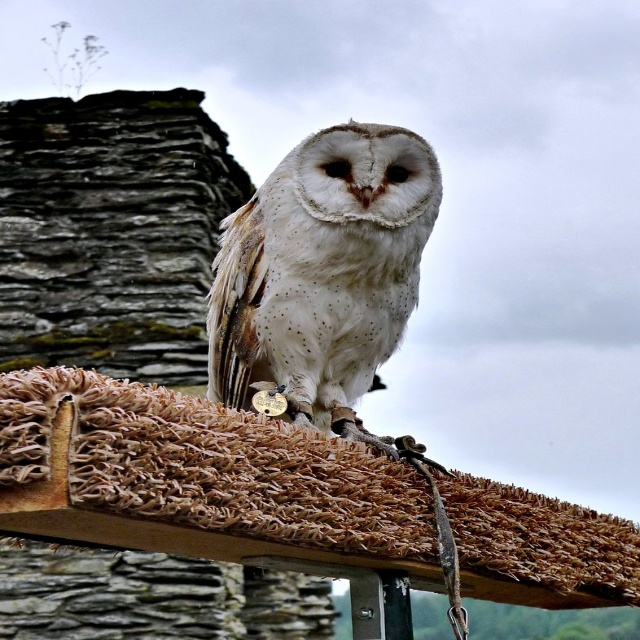Owl: (207, 117, 447, 461)
